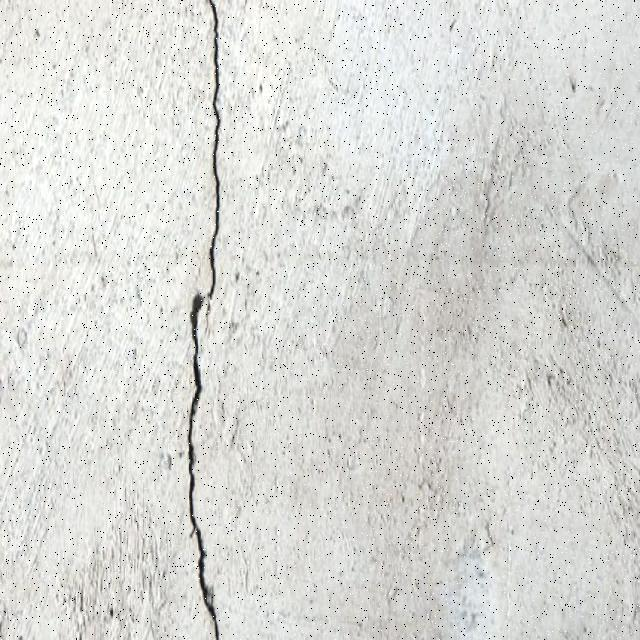minor crack: (3, 0, 30, 626), (565, 178, 602, 255)
moderate crack: (188, 0, 235, 624), (105, 304, 201, 607), (227, 412, 242, 449), (556, 302, 572, 327), (482, 521, 495, 547), (188, 521, 198, 536)
severe crack: (205, 0, 479, 426), (544, 145, 639, 558), (191, 279, 213, 362), (185, 441, 204, 533), (199, 546, 207, 558)
